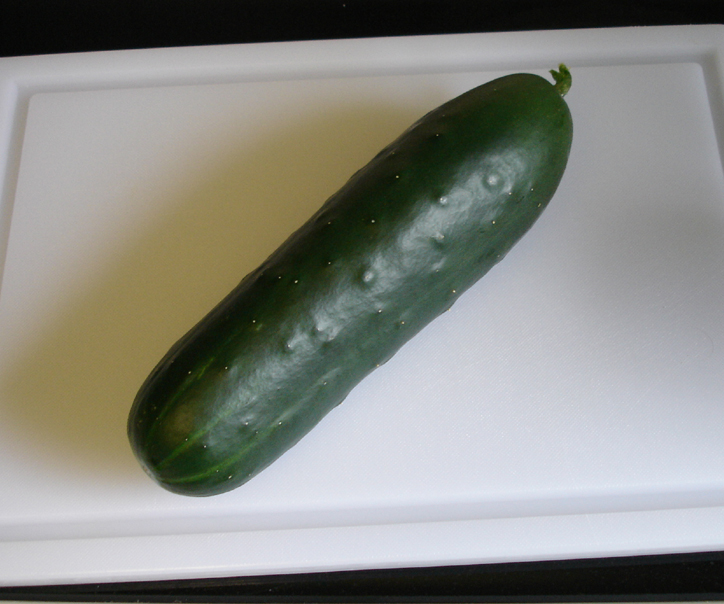cucumber: (126, 63, 574, 501)
